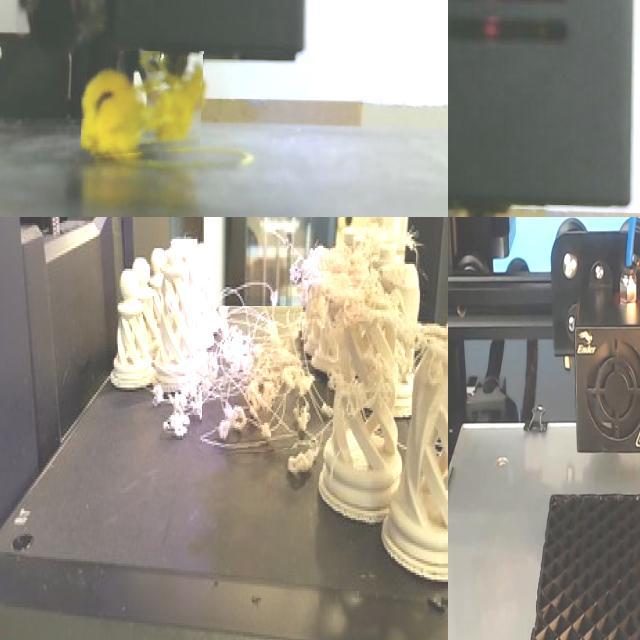spaghetti: (202, 306, 303, 457), (81, 51, 203, 156), (298, 224, 414, 328), (318, 358, 398, 416), (409, 314, 448, 376), (160, 416, 190, 446), (164, 382, 184, 410), (190, 394, 206, 422), (148, 384, 168, 406)
